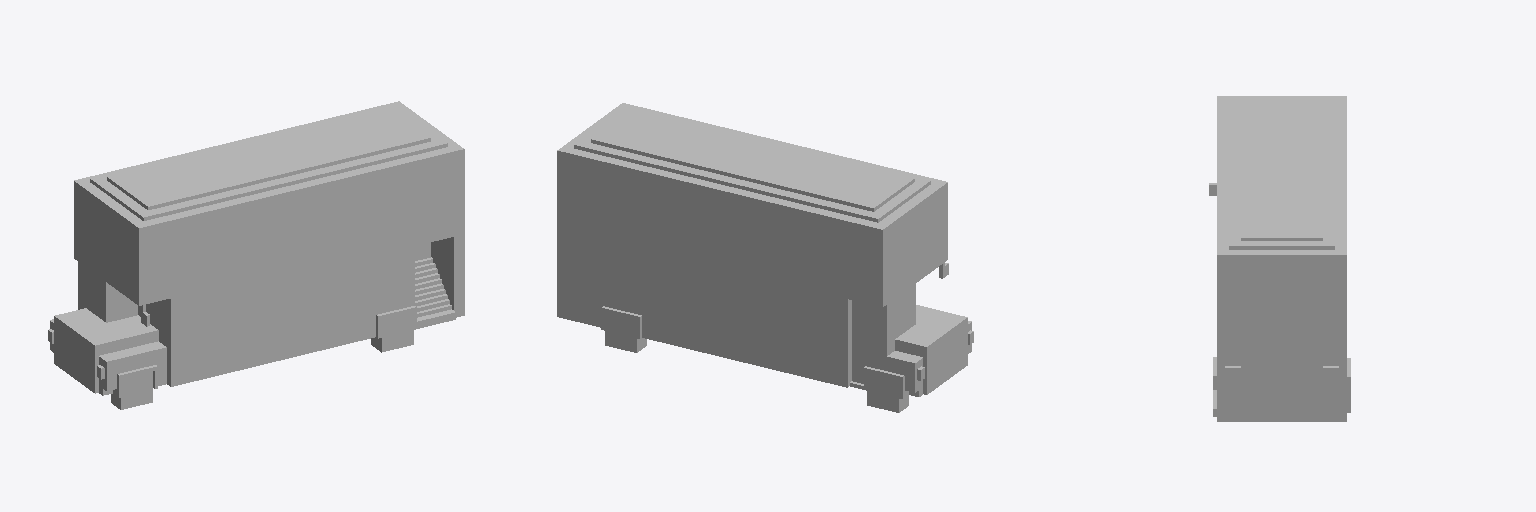
The model's file is alll cars3-137.obj.
The picture shows the model from 3 angles: view 1: azimuth 30°, elevation 25°; view 2: azimuth 150°, elevation 25°; view 3: azimuth 270°, elevation 25°; orthographic projection.
Parts seen in each view (by area): view 1: object 1; view 2: object 1; view 3: object 1.
Part boxes in pixels (left/top/right/bottom): object 1: left=48, top=101, right=464, bottom=409; object 1: left=557, top=103, right=973, bottom=412; object 1: left=1209, top=96, right=1350, bottom=421.
Bounding box in the file's own units: 10.2 × 5.1 × 3.5.